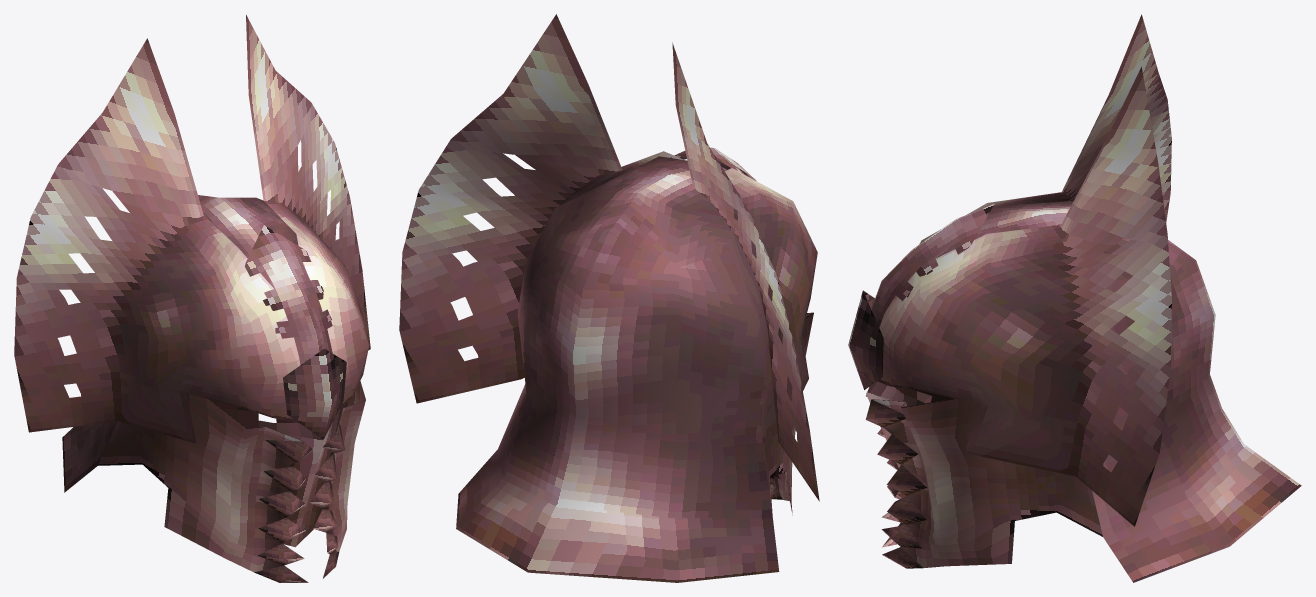
The model's file is m_helmet076.obj.
3 renders of one model, left to right at view 1: azimuth 30°, elevation 25°; view 2: azimuth 150°, elevation 25°; view 3: azimuth 270°, elevation 25°, orthographic. The views are drawn at different scales.
Visible parts, largest first — view 1: mesh01; view 2: mesh01; view 3: mesh01.
Part boxes in pixels (bbox=[...]): mesh01: bbox=[14, 15, 370, 582]; mesh01: bbox=[399, 14, 819, 582]; mesh01: bbox=[848, 14, 1301, 582].
Size of the model in its own units: 30.65 by 39.71 by 31.68.
2 materials, 2 textured.
